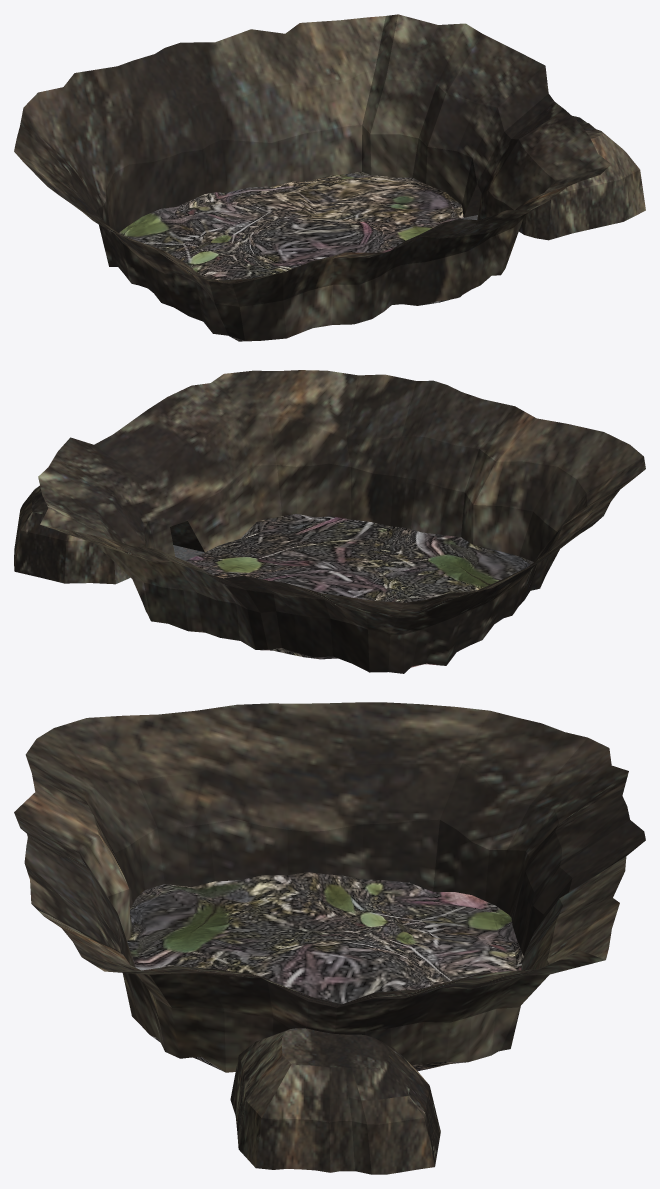
File: MageArea.fbx
The picture shows the model from 3 angles, top to bottom: view 1: azimuth 30°, elevation 25°; view 2: azimuth 150°, elevation 25°; view 3: azimuth 270°, elevation 25°; orthographic projection. The views are drawn at different scales.
Visible parts, largest first — view 1: Area; view 2: Area; view 3: Area.
Boxes of the visible parts, x1,y1,x2,y2 form: Area: (14,14,645,341); Area: (14,370,645,673); Area: (14,702,645,1174).
Bounding box in the file's own units: 9742 × 2324 × 8007.
